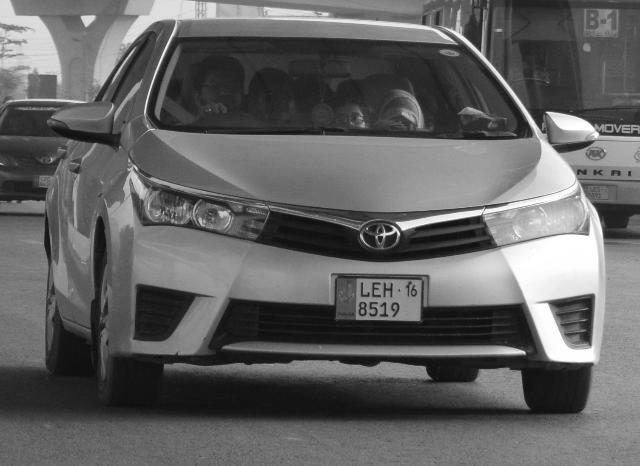Number: (356, 282, 406, 319)
